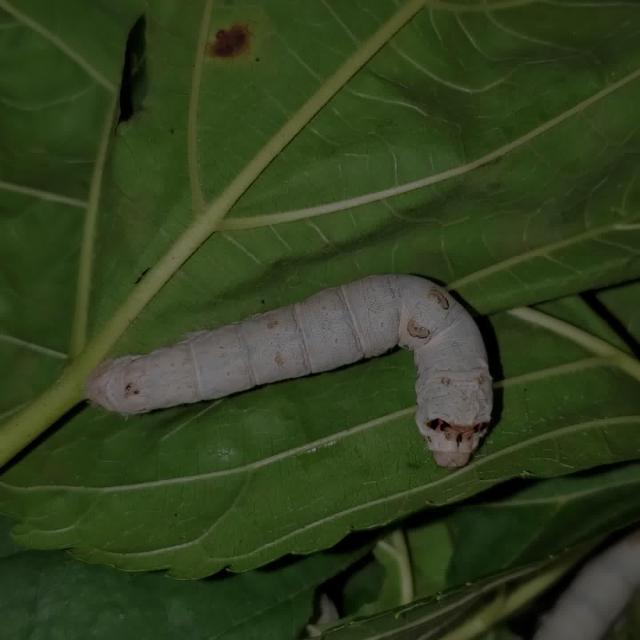Healthy: (73, 266, 497, 476)
